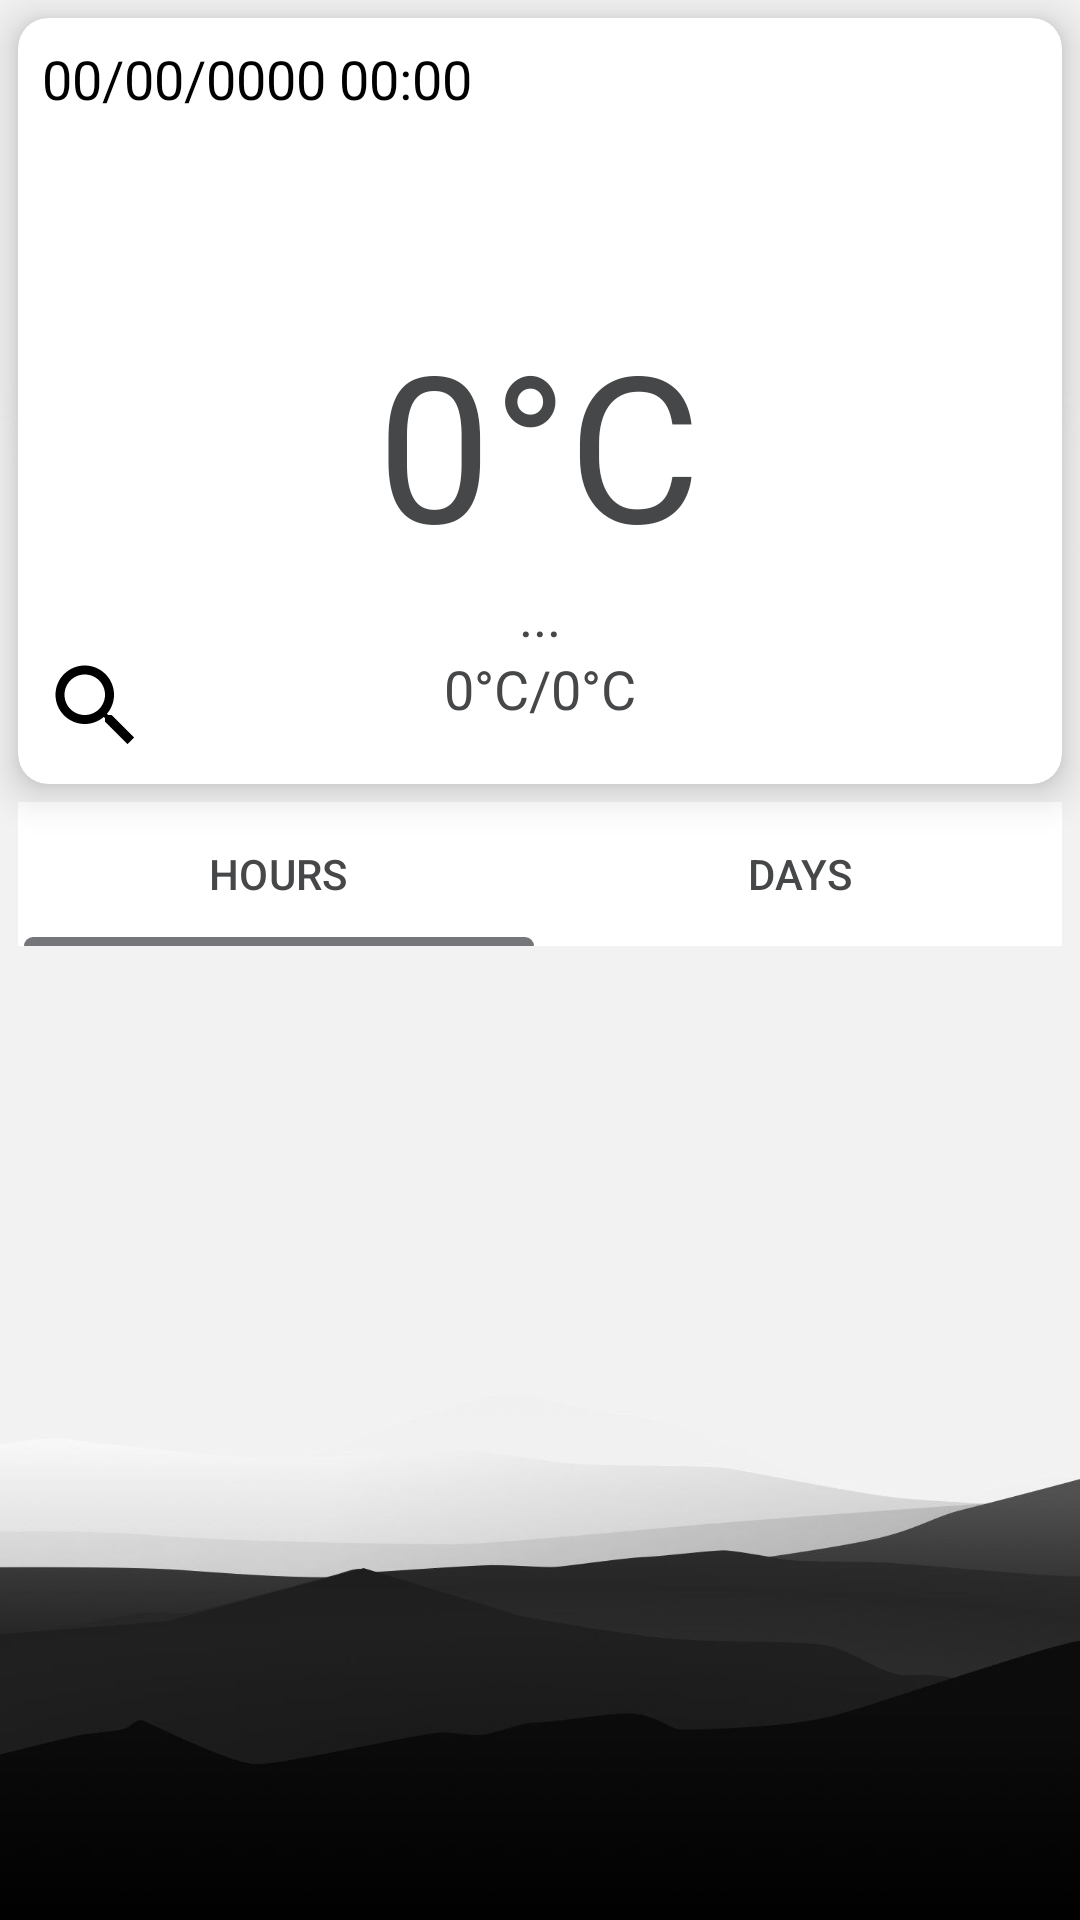

Named icons in this screenshot (1080px×1920px) and their centers, (x=x, y=y):
search: (x=94, y=704)
